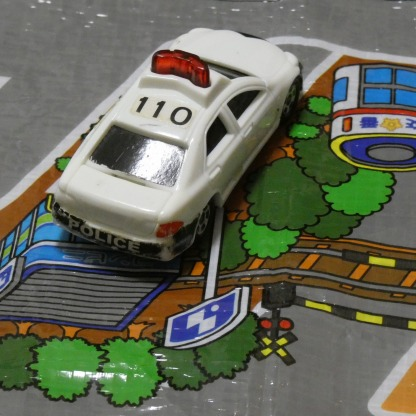car: (48, 26, 303, 266)
